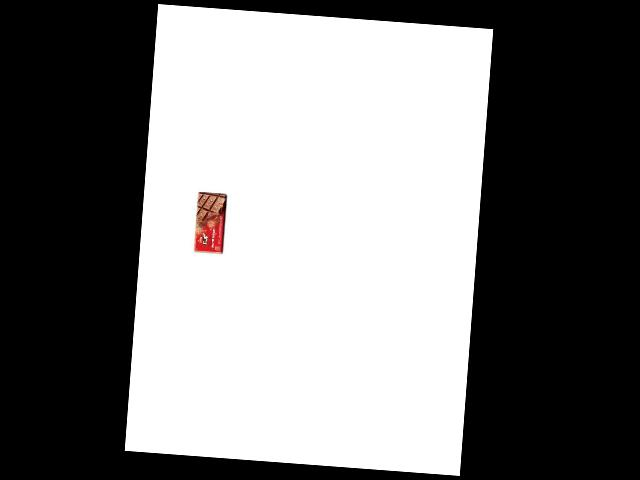chocolate: (192, 190, 228, 254)
